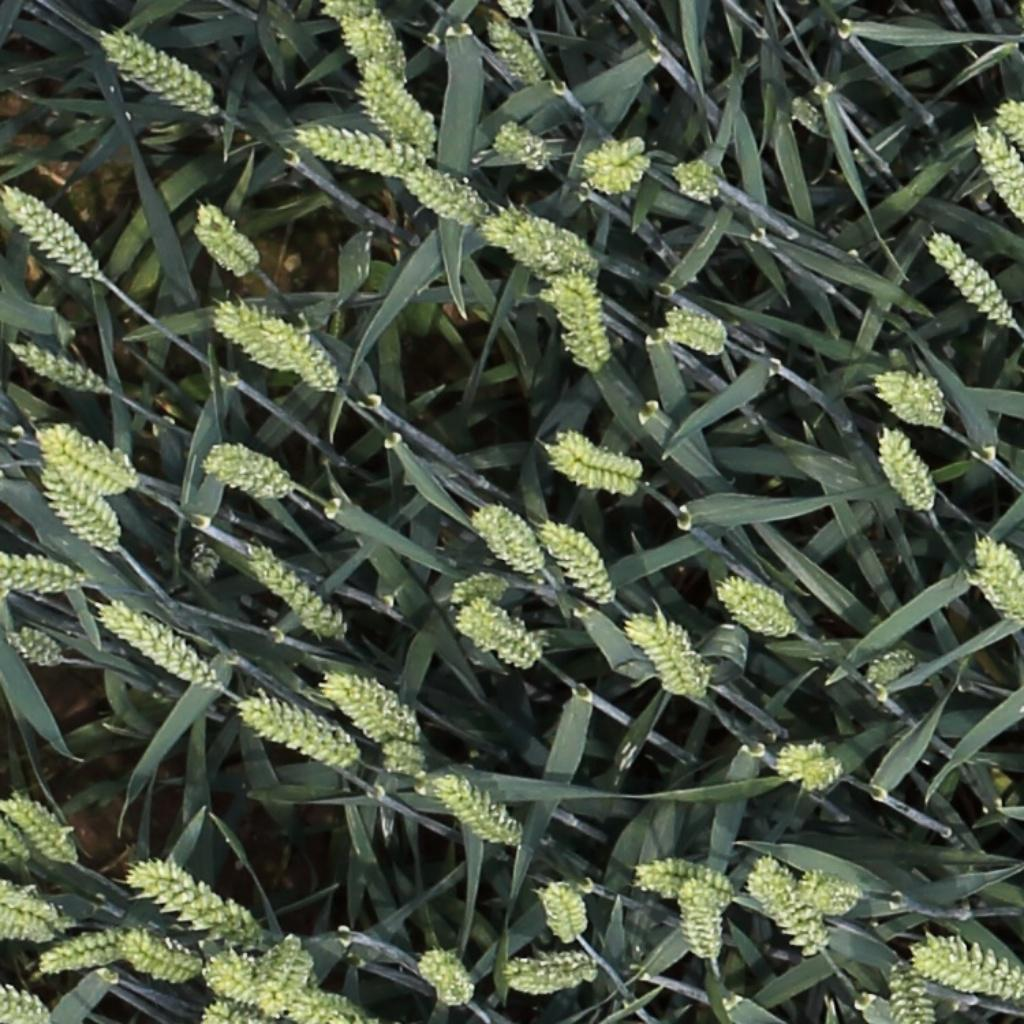0-0: (129, 854, 263, 943), (96, 603, 217, 692), (38, 446, 130, 549), (245, 547, 345, 640), (99, 30, 211, 111), (428, 772, 538, 853), (4, 185, 98, 279), (925, 229, 1015, 327), (630, 596, 716, 692), (452, 601, 559, 677), (237, 699, 353, 768), (745, 865, 827, 957), (361, 55, 436, 155), (916, 926, 1021, 996), (494, 213, 602, 281), (536, 520, 613, 606), (322, 0, 402, 79), (970, 121, 1024, 237), (309, 678, 402, 744), (348, 672, 436, 740), (542, 427, 644, 485), (294, 126, 417, 173), (544, 271, 600, 374), (39, 425, 126, 490), (494, 945, 610, 993), (212, 308, 297, 372), (876, 424, 935, 516), (199, 953, 286, 1015), (2, 795, 75, 868), (205, 433, 295, 492), (468, 505, 540, 576), (9, 342, 105, 393), (481, 17, 546, 90), (714, 574, 793, 632), (191, 204, 256, 273), (972, 533, 1024, 618), (38, 928, 142, 970), (284, 327, 352, 391), (186, 496, 230, 592), (401, 167, 477, 221), (263, 933, 319, 1004), (873, 372, 943, 427), (120, 937, 197, 983), (416, 948, 473, 1008), (660, 314, 739, 356), (681, 879, 719, 965), (537, 879, 584, 948), (630, 869, 730, 901), (1, 884, 66, 931), (797, 869, 866, 912), (888, 957, 931, 1024), (286, 993, 373, 1024), (491, 120, 548, 167), (0, 557, 81, 589), (584, 151, 648, 189), (794, 755, 847, 800), (374, 742, 435, 778), (768, 744, 833, 777), (6, 629, 60, 666), (670, 159, 719, 199), (786, 92, 830, 135), (862, 652, 917, 685), (999, 106, 1024, 177), (0, 811, 32, 866), (1, 987, 47, 1021), (0, 914, 53, 942), (200, 1003, 264, 1024), (490, 0, 545, 23), (449, 580, 506, 602)
